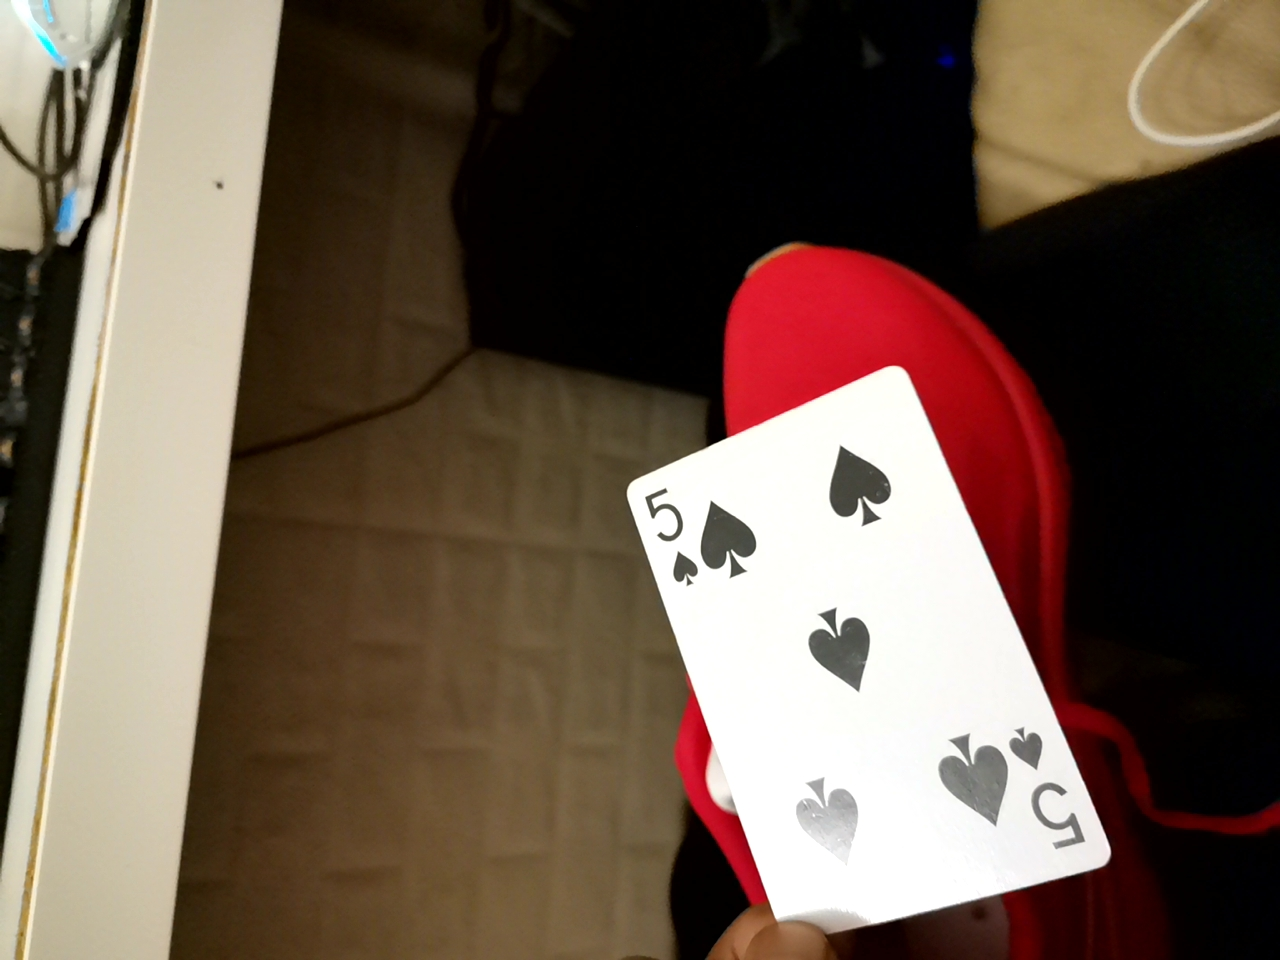ht 5: (604, 380, 1085, 939)
